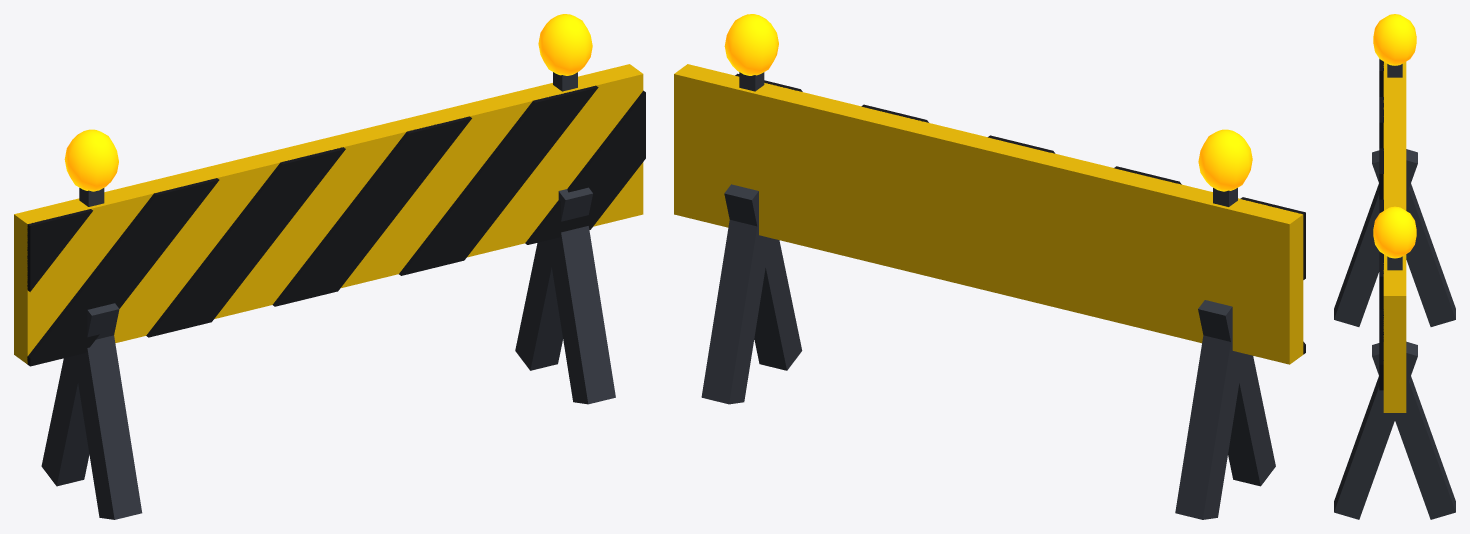
File: barrier.glb
3 views of the same model, side by side, from view 1: azimuth 30°, elevation 25°; view 2: azimuth 150°, elevation 25°; view 3: azimuth 270°, elevation 25° (orthographic). The views are drawn at different scales.
Visible parts, largest first — view 1: BarrierBody; view 2: BarrierBody; view 3: BarrierBody.
Boxes of the visible parts, left/top/right/bottom form: BarrierBody: left=14, top=14, right=645, bottom=519; BarrierBody: left=674, top=14, right=1305, bottom=519; BarrierBody: left=1334, top=14, right=1455, bottom=519.
Bounding box in the file's own units: 1.56 × 0.8886 × 0.3211.
